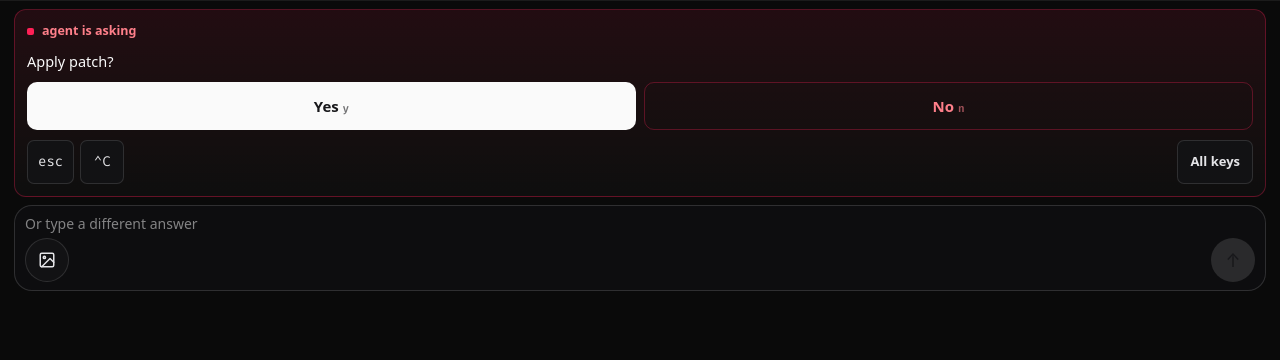
Scenario: Composer › the answer panel replaces the key row until All keys is opened
Click the button "All keys" at (1215, 162), box [1177, 140, 1253, 184]
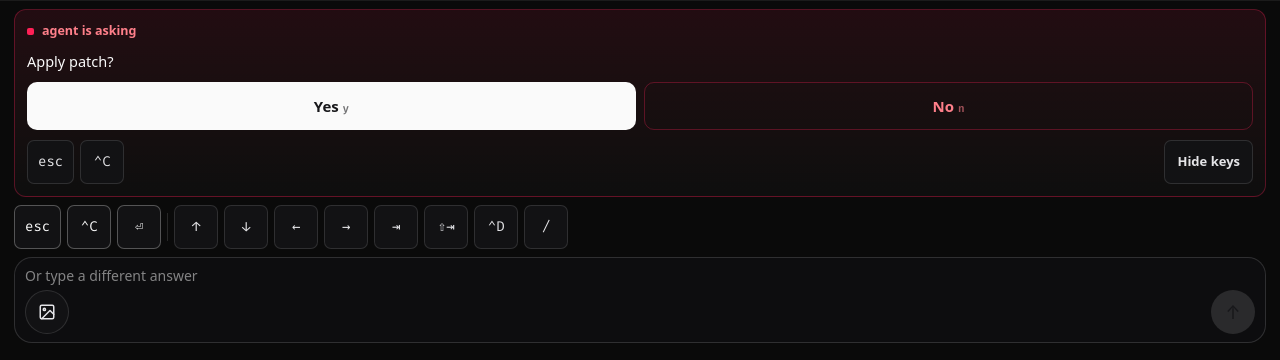
expect the button named "up" is shown: met, box [174, 205, 218, 249]
